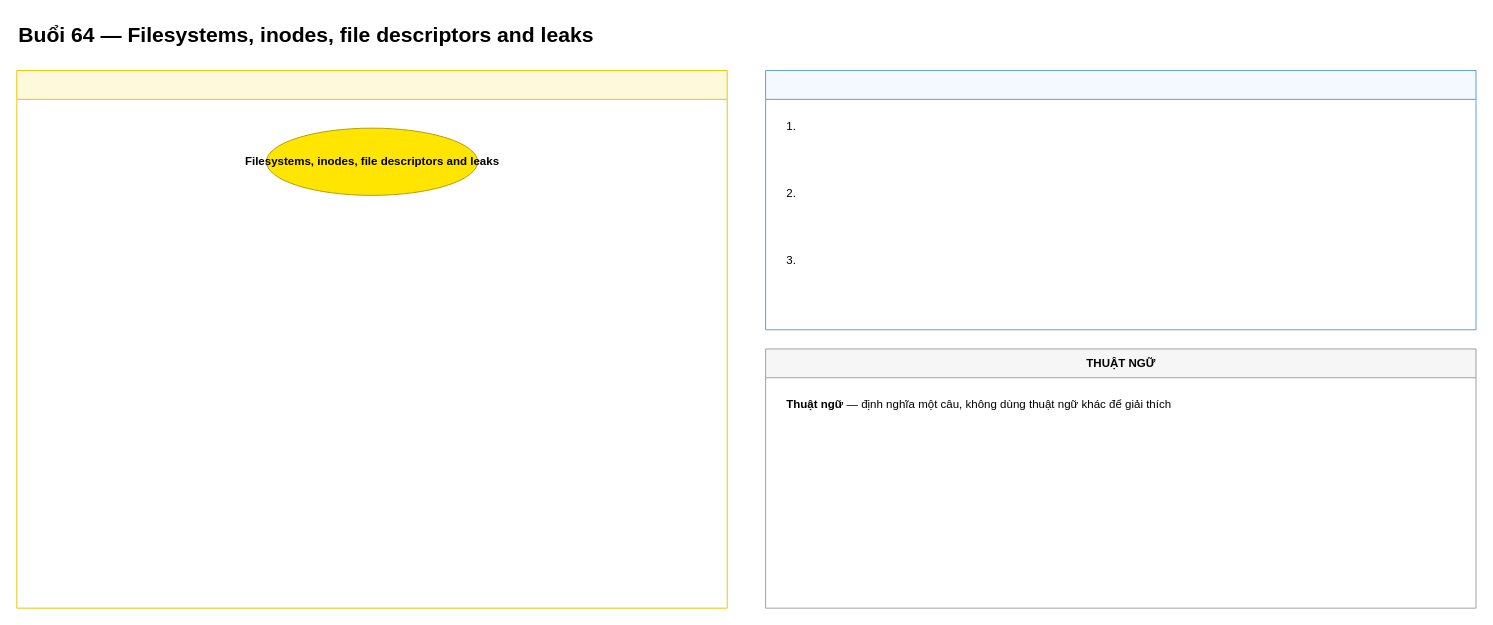
This 1493x625 diagram has some shape labels left out. Here are the shapes that lost their labels. From the top down, the box of each, then its label:
(765, 70, 1476, 330): KEY TAKEAWAY — ba điều phải nhớ
(16, 70, 727, 608): MINDMAP
